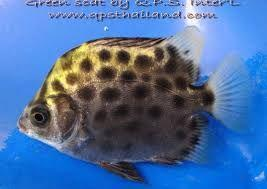Scat Fish: (15, 22, 256, 189)
